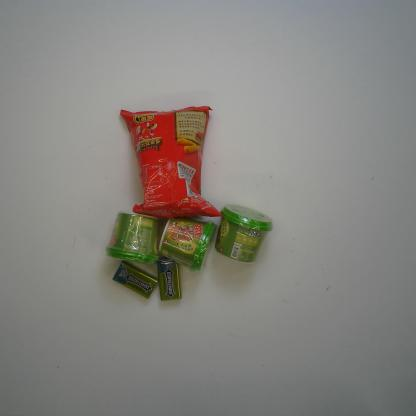Gum: (112, 260, 158, 300), (156, 258, 182, 302)
Instant Drink: (214, 204, 274, 264), (158, 216, 217, 273), (105, 210, 161, 266)
Puffed Food: (120, 105, 224, 218)
